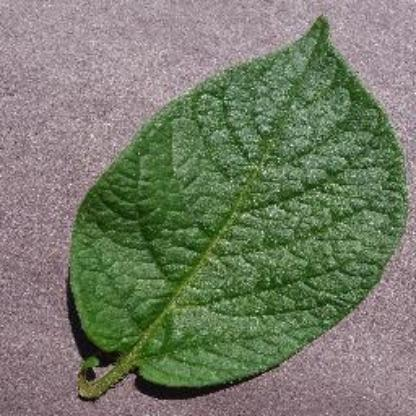Healthy-plant: (51, 10, 413, 400)
